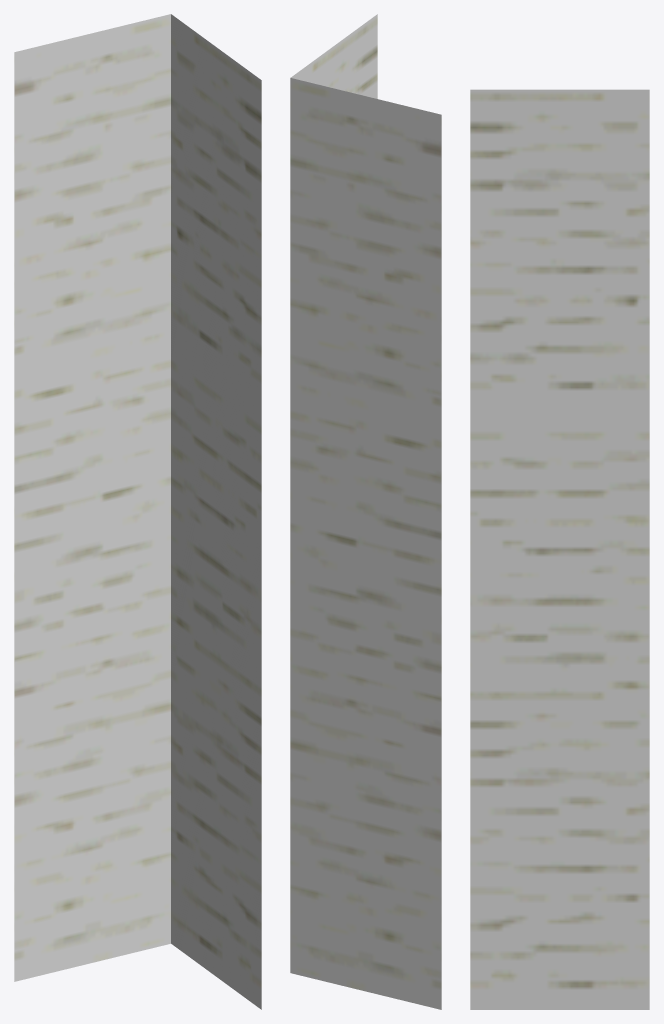
File: W_A1_Eckverschluß [Juwellier_Verputz]_2875.glb
3 views of the same model, side by side, from view 1: azimuth 30°, elevation 25°; view 2: azimuth 150°, elevation 25°; view 3: azimuth 270°, elevation 25° (orthographic). The views are drawn at different scales.
Visible parts, largest first — view 1: pPlaneShape7; view 2: pPlaneShape7; view 3: pPlaneShape7.
Boxes of the visible parts, x1,y1,x2,y2 form: pPlaneShape7: (14, 14, 261, 1009); pPlaneShape7: (290, 14, 441, 1009); pPlaneShape7: (470, 89, 649, 1009).
Bounding box in the file's own units: 0.0615 × 0.3486 × 0.0615.
1 material, 1 textured.
